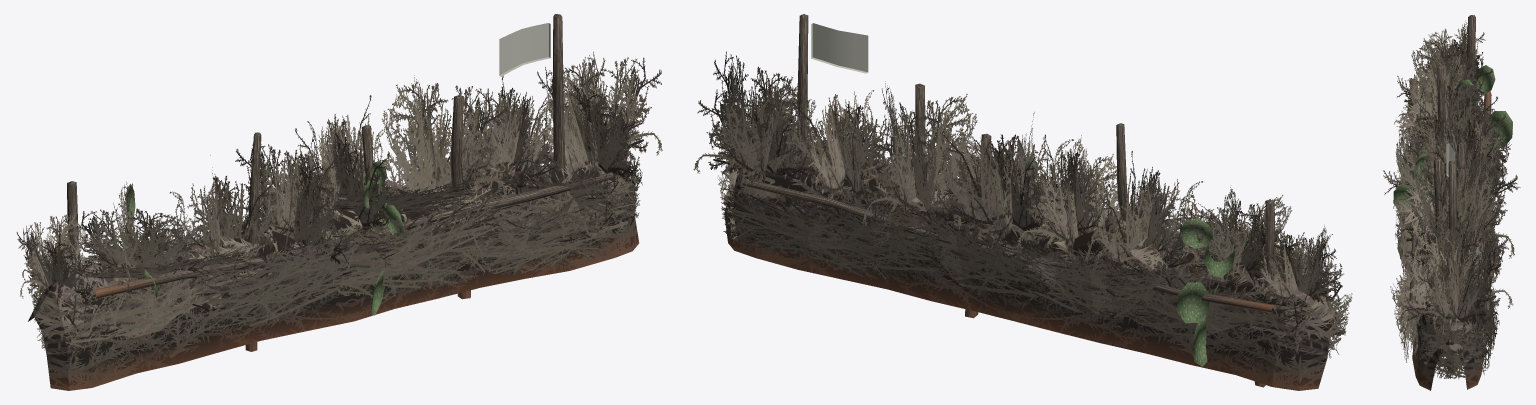
Rendered from palissade_b.glb.
3 views of the same model, side by side, from view 1: azimuth 30°, elevation 25°; view 2: azimuth 150°, elevation 25°; view 3: azimuth 270°, elevation 25° (orthographic). The views are drawn at different scales.
Visible parts, largest first — view 1: Palissade_b, Banniere; view 2: Palissade_b, Banniere; view 3: Palissade_b, Banniere.
Boxes of the visible parts, x1,y1,x2,y2 form: Palissade_b: (16, 14, 662, 390); Banniere: (499, 23, 550, 76); Palissade_b: (693, 14, 1352, 390); Banniere: (811, 23, 868, 73); Palissade_b: (1383, 15, 1520, 390); Banniere: (1446, 143, 1455, 176).
Bounding box in the file's own units: 4.87 × 1.83 × 1.08.
Materials: 2 (2 with a texture image).
